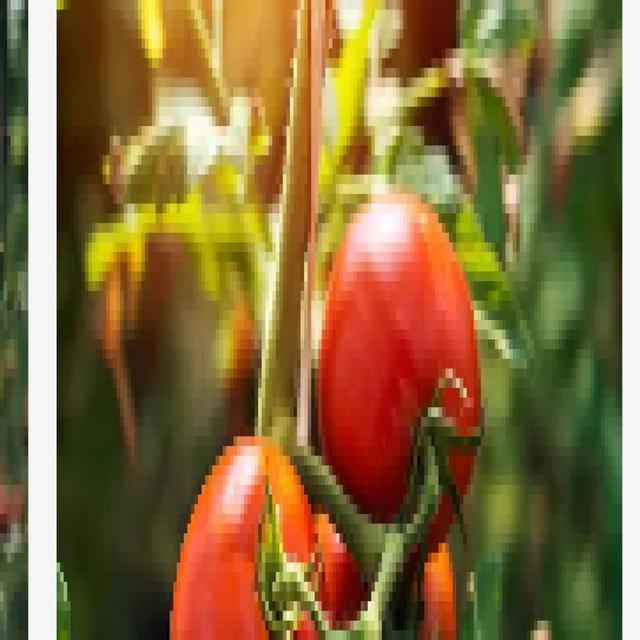Healthy Fruit: (111, 150, 267, 352)
